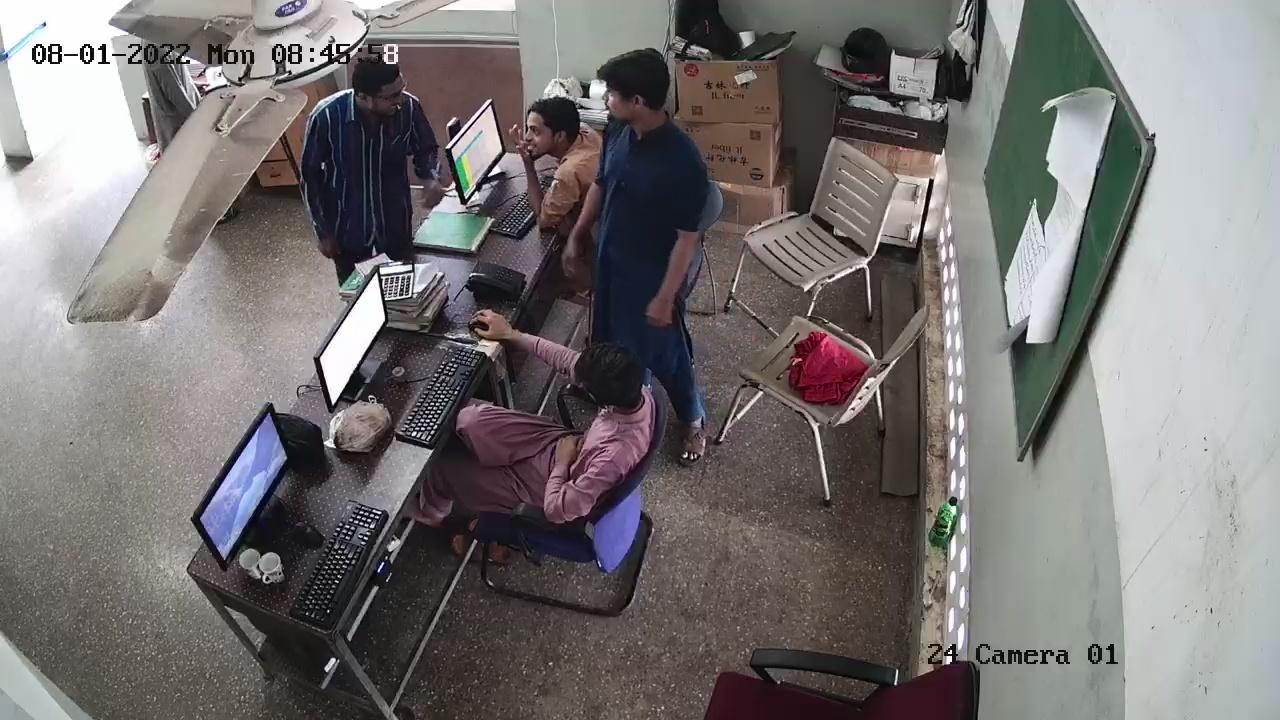person: (604, 53, 709, 450), (444, 343, 662, 525), (320, 57, 427, 238), (519, 82, 609, 222)
